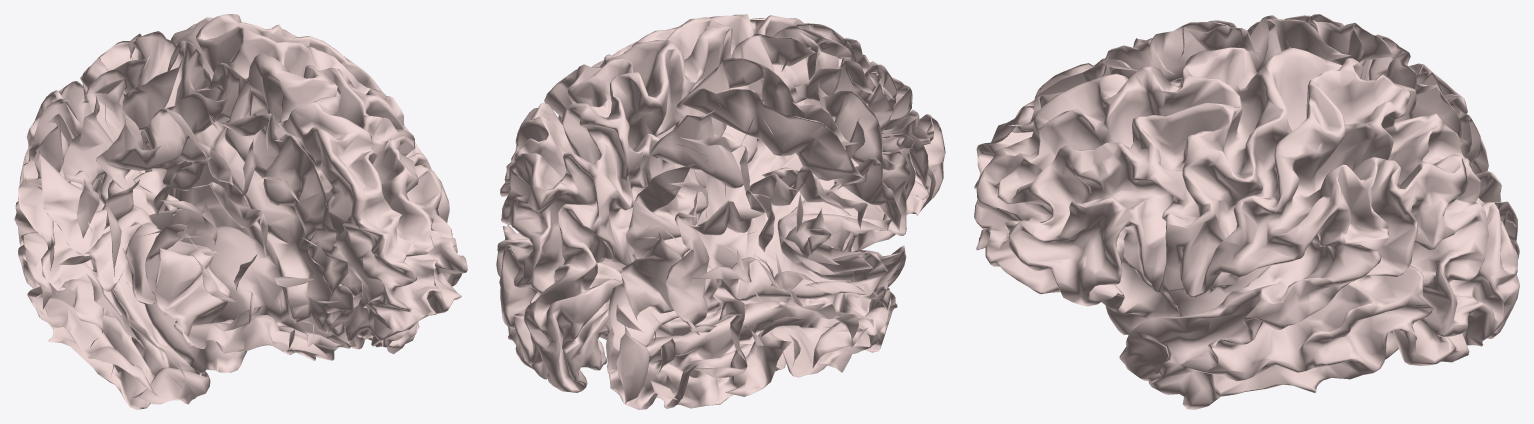
Rendered from zanatomy-cerebrum.glb.
3 renders of one model, left to right at view 1: azimuth 30°, elevation 25°; view 2: azimuth 150°, elevation 25°; view 3: azimuth 270°, elevation 25°, orthographic. The views are drawn at different scales.
Parts seen in each view (by area): view 1: zb_cerebrum; view 2: zb_cerebrum; view 3: zb_cerebrum.
Boxes of the visible parts, bbox=[...] form: zb_cerebrum: bbox=[14, 14, 467, 409]; zb_cerebrum: bbox=[496, 14, 945, 409]; zb_cerebrum: bbox=[974, 14, 1519, 409].
Size of the model in its own units: 0.1297 by 0.1095 by 0.1749.
